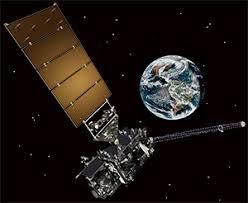antenna: (149, 120, 246, 145), (75, 165, 88, 179), (91, 189, 99, 199), (80, 156, 89, 160)
body: (83, 128, 155, 200)
solar: (3, 2, 114, 129)
